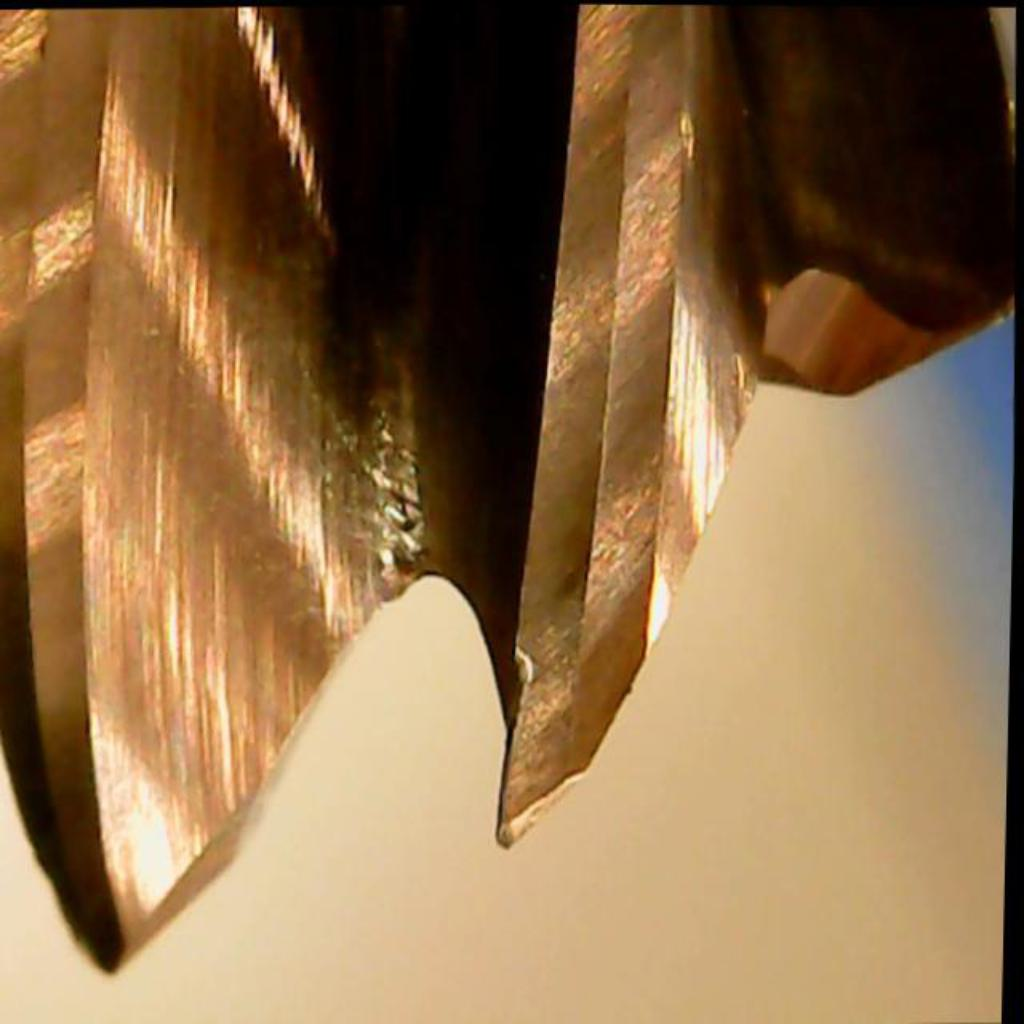Tool-wear-class-1: (460, 416, 663, 858)
